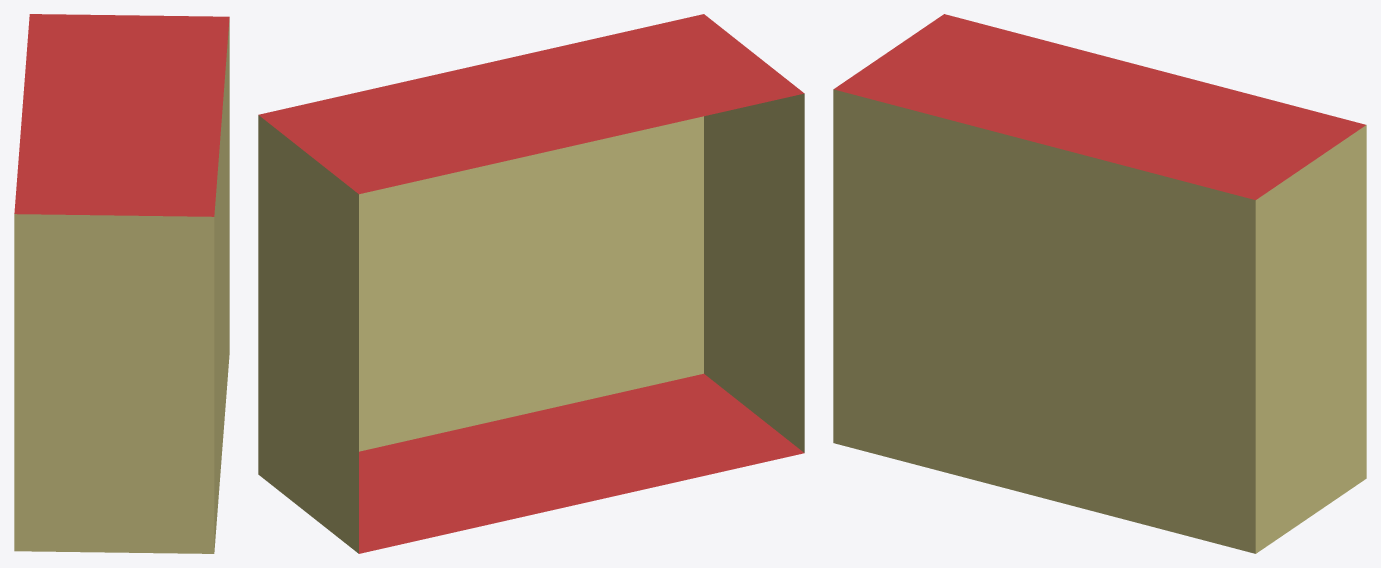
3 renders of one model, left to right at view 1: azimuth 30°, elevation 25°; view 2: azimuth 150°, elevation 25°; view 3: azimuth 270°, elevation 25°, orthographic. The views are drawn at different scales.
Visible parts, largest first — view 1: group_4, group_3; view 2: group_4, group_3, group_5; view 3: group_4, group_3.
Boxes of the visible parts, x1,y1,x2,y2 form: group_4: (14,18,229,553); group_3: (14,14,229,216); group_4: (258,93,804,553); group_3: (258,14,804,194); group_5: (359,373,804,553); group_4: (833,89,1366,553); group_3: (834,14,1365,199).
Bounding box in the file's own units: 8.65 × 10.46 × 7.66.
